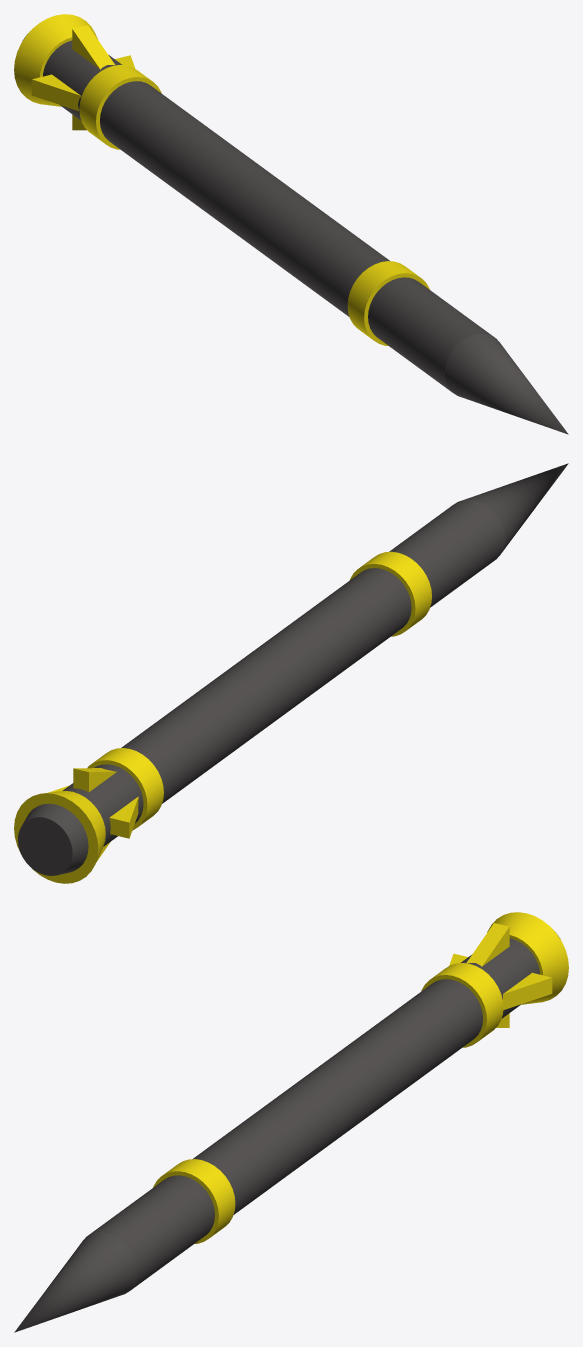
The model's file is missile.obj.
3 views of the same model, one above another, from view 1: azimuth 30°, elevation 25°; view 2: azimuth 150°, elevation 25°; view 3: azimuth 330°, elevation 25° (orthographic).
Visible parts, largest first — view 1: 円柱.006; view 2: 円柱.006; view 3: 円柱.006.
Boxes of the visible parts, x1,y1,x2,y2 form: 円柱.006: [14, 14, 568, 434]; 円柱.006: [14, 463, 568, 883]; 円柱.006: [14, 912, 568, 1332].
Bounding box in the file's own units: 0.2961 × 0.2897 × 2.72.
2 materials, 2 textured.
